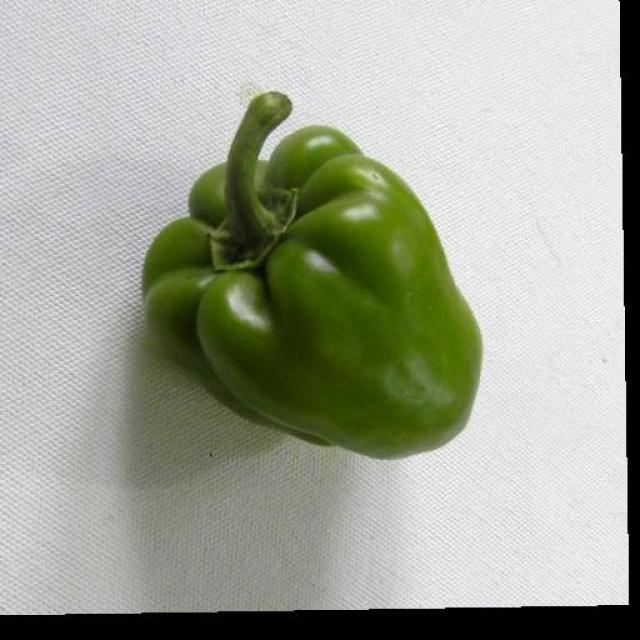Fresh_Capsicum: (148, 120, 495, 462)
